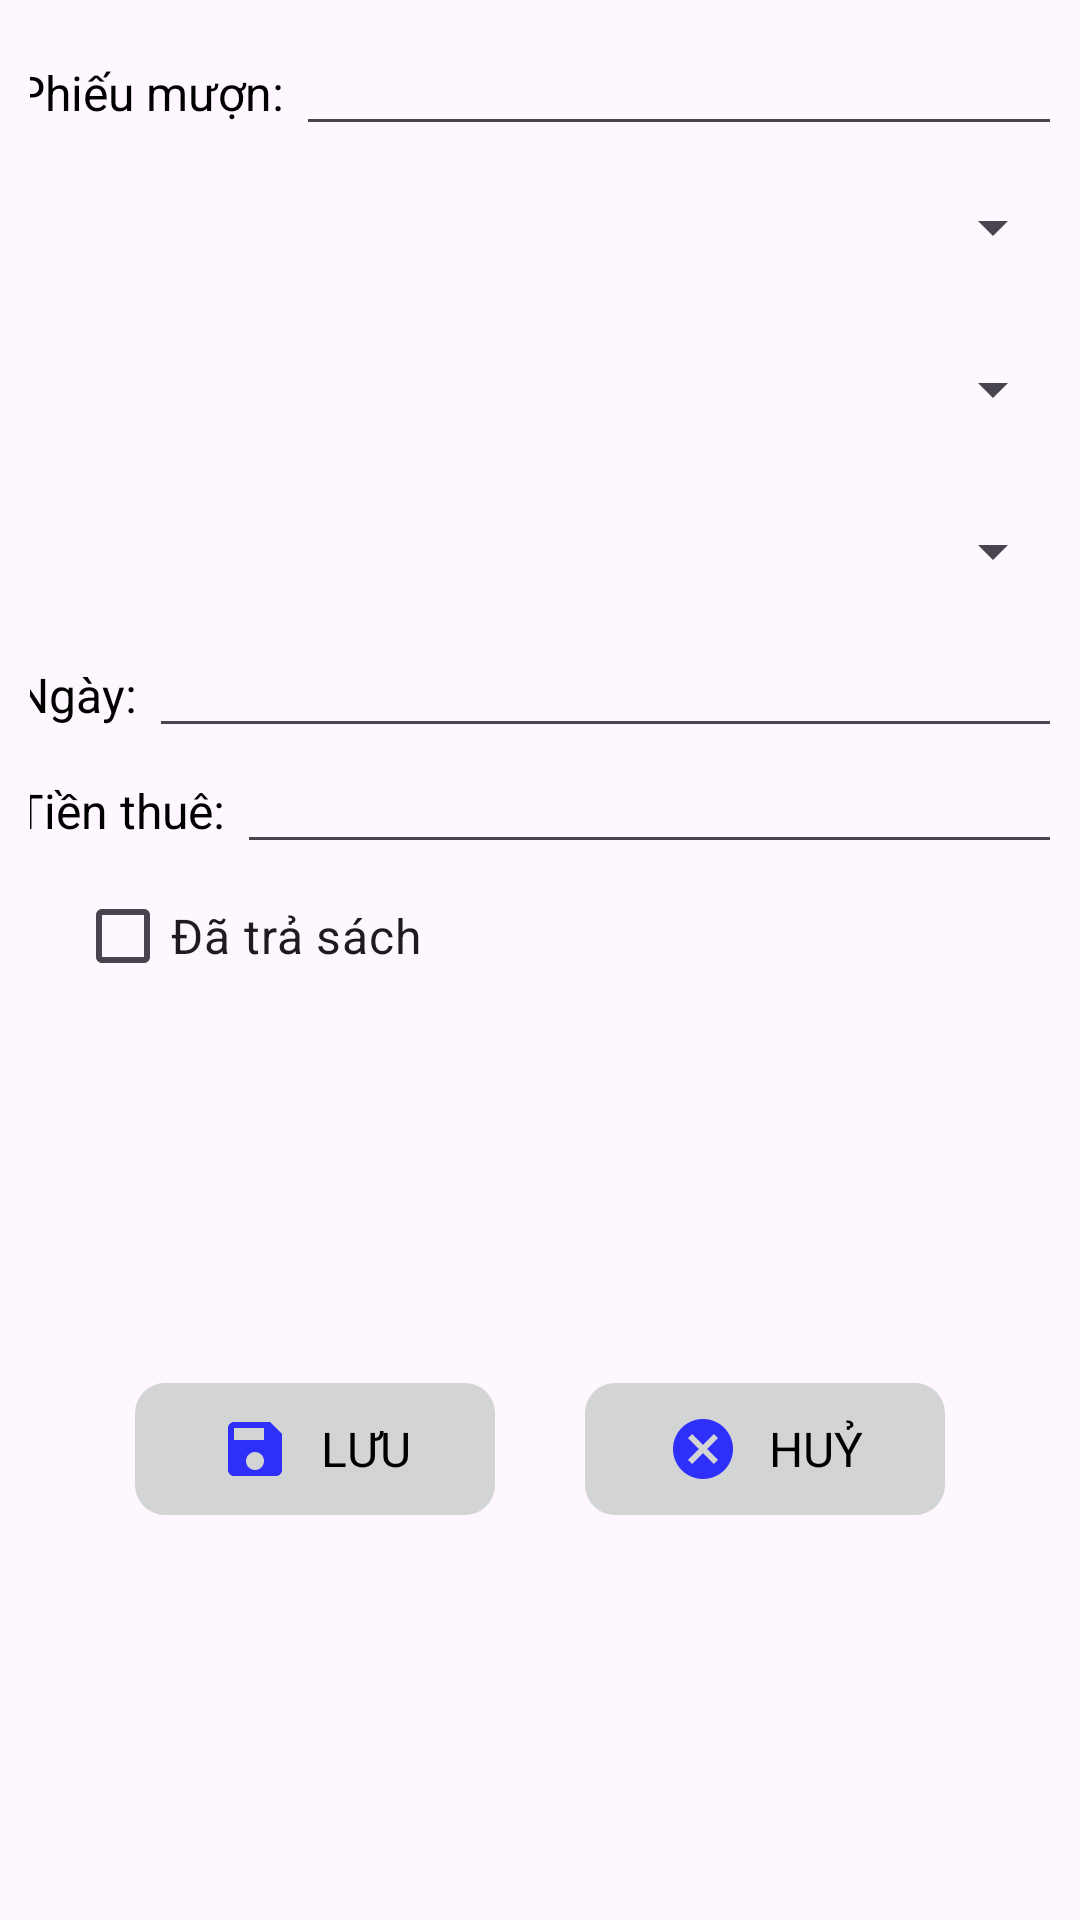

Icon click points for this 1080 x 1920 phone screenshot, format [x,y]:
cancel: [703,1449]
save: [255,1449]
